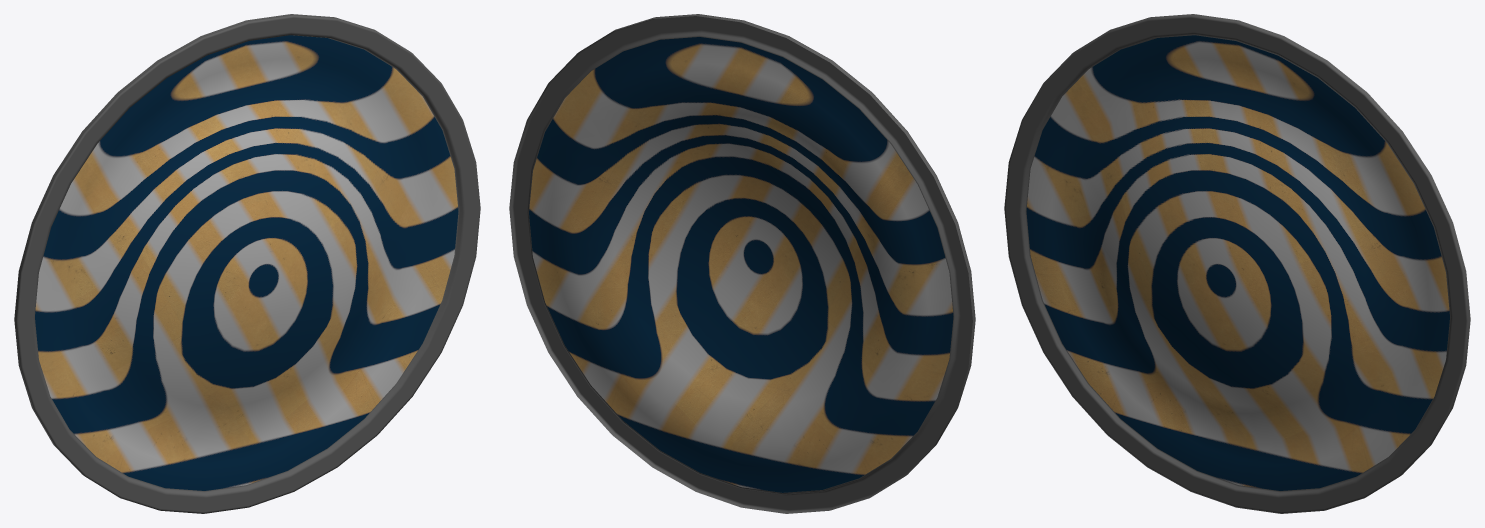
Rendered from Shield.gltf.
3 views of the same model, side by side, from view 1: azimuth 30°, elevation 25°; view 2: azimuth 150°, elevation 25°; view 3: azimuth 330°, elevation 25° (orthographic).
Parts seen in each view (by area): view 1: Schild; view 2: Schild; view 3: Schild.
Boxes of the visible parts, x1=… form: Schild: x1=14, y1=14, x2=480, y2=513; Schild: x1=509, y1=14, x2=975, y2=513; Schild: x1=1004, y1=14, x2=1470, y2=513.
Size of the model in its own units: 0.6 by 0.6 by 0.0498.
2 materials, 1 textured.
